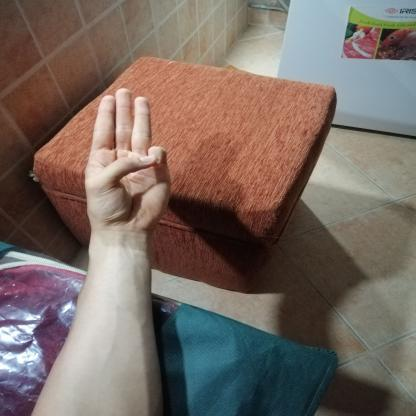THA: (70, 79, 181, 240)
